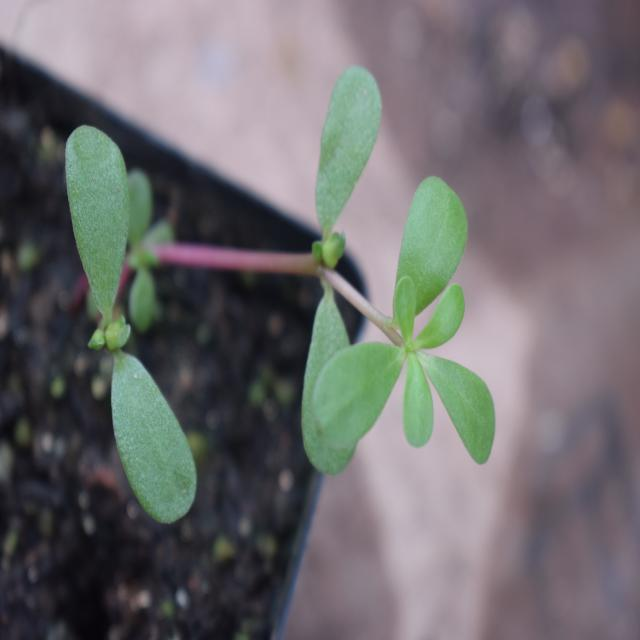purslane: (50, 62, 513, 519)
